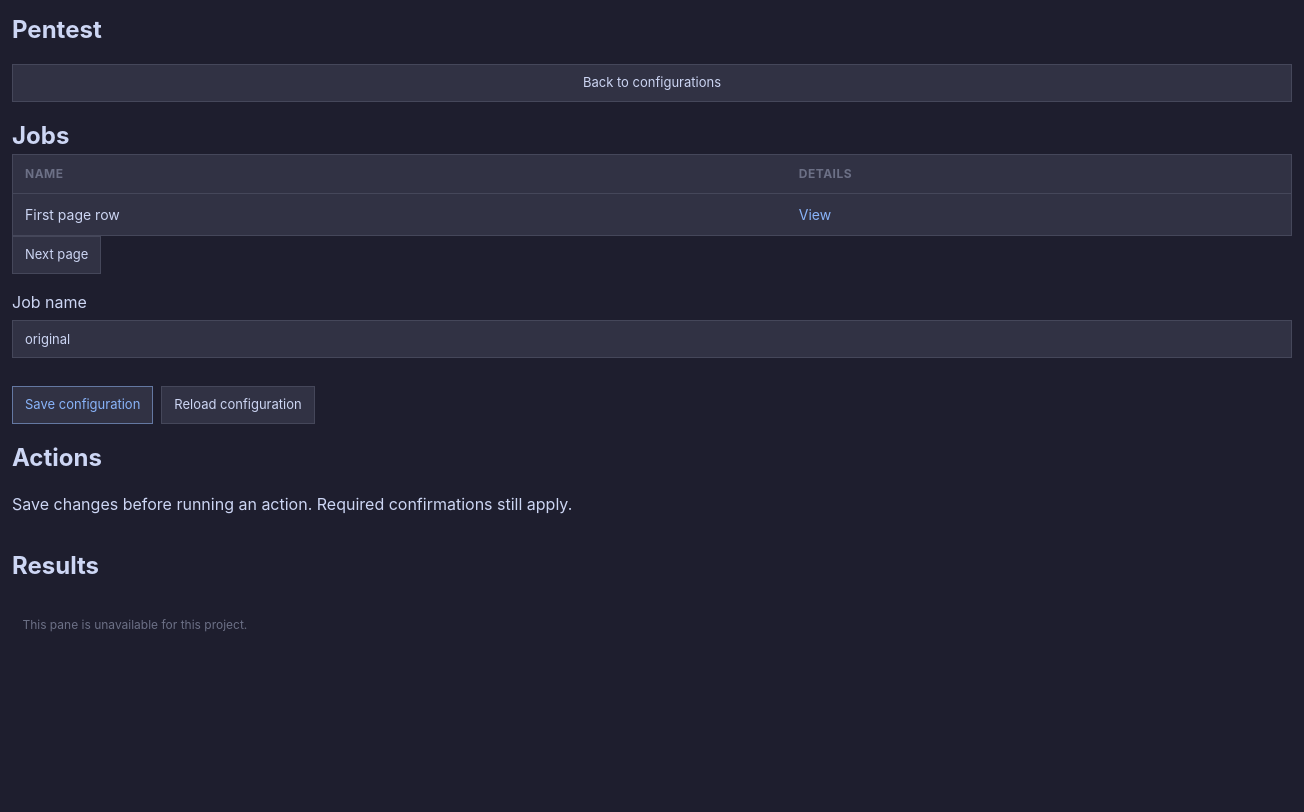
Scenario: resets to the first page after saving without overwriting a cursor-qualified cache
Expected: the text "First page row" is shown, top-left (13, 194), bottom-right (787, 235)
Click the button "Next page" at (57,255), box top-left (12, 236), bottom-right (101, 274)
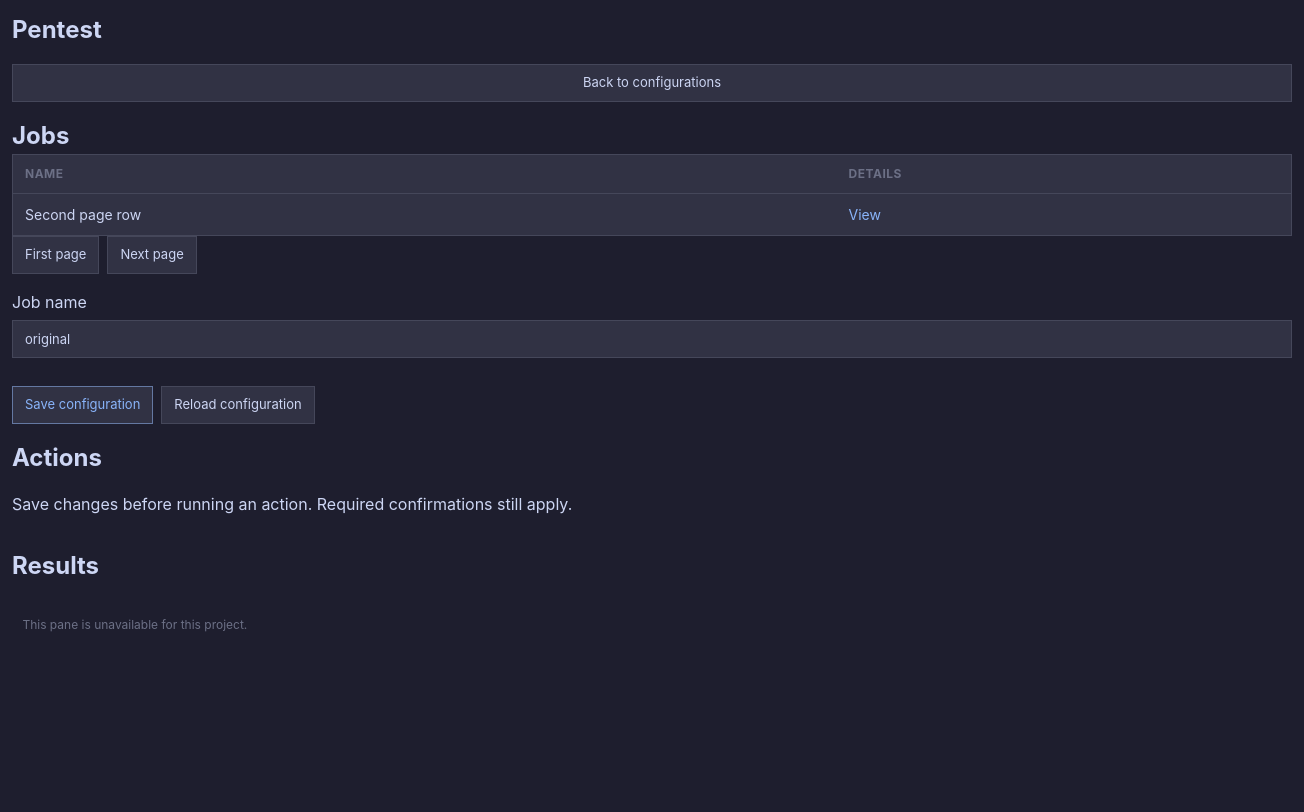
Expected: the text "Second page row" is shown, top-left (13, 194), bottom-right (836, 235)
Replace the text in the field labelled "Job name" with "edited" at (652,339), box top-left (12, 320), bottom-right (1292, 358)
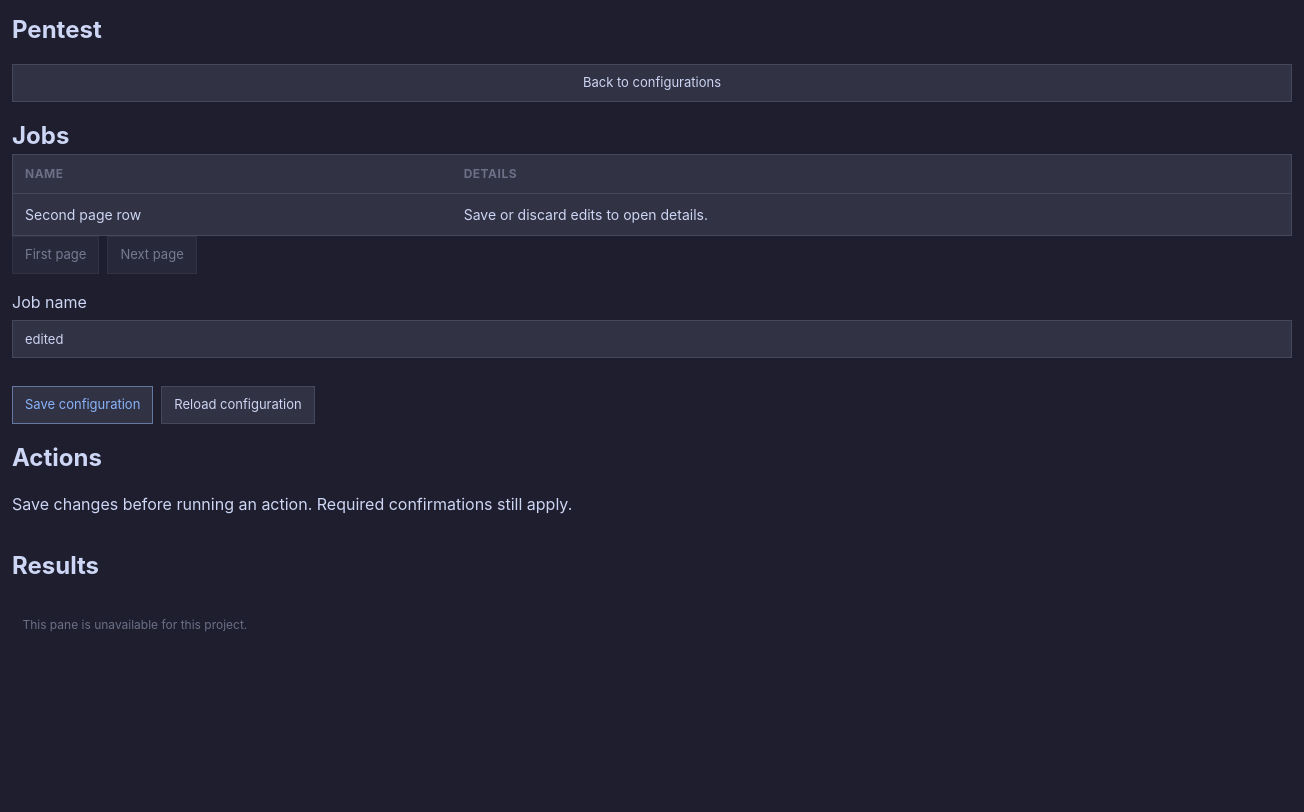
Click the button "Save configuration" at (83,405), box top-left (12, 386), bottom-right (153, 424)
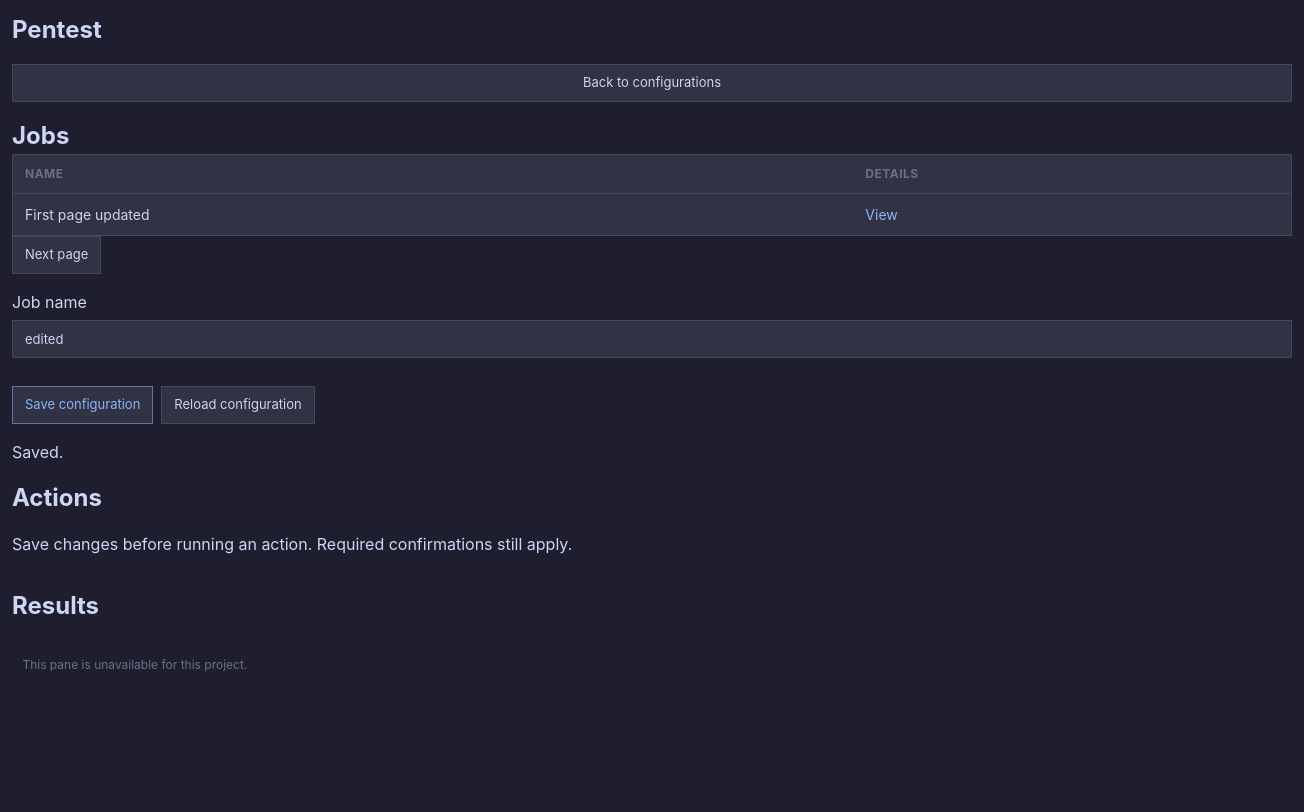
Expected: the text "Saved." is shown, top-left (12, 442), bottom-right (63, 462)
Expected: the text "First page updated" is shown, top-left (13, 194), bottom-right (853, 235)
